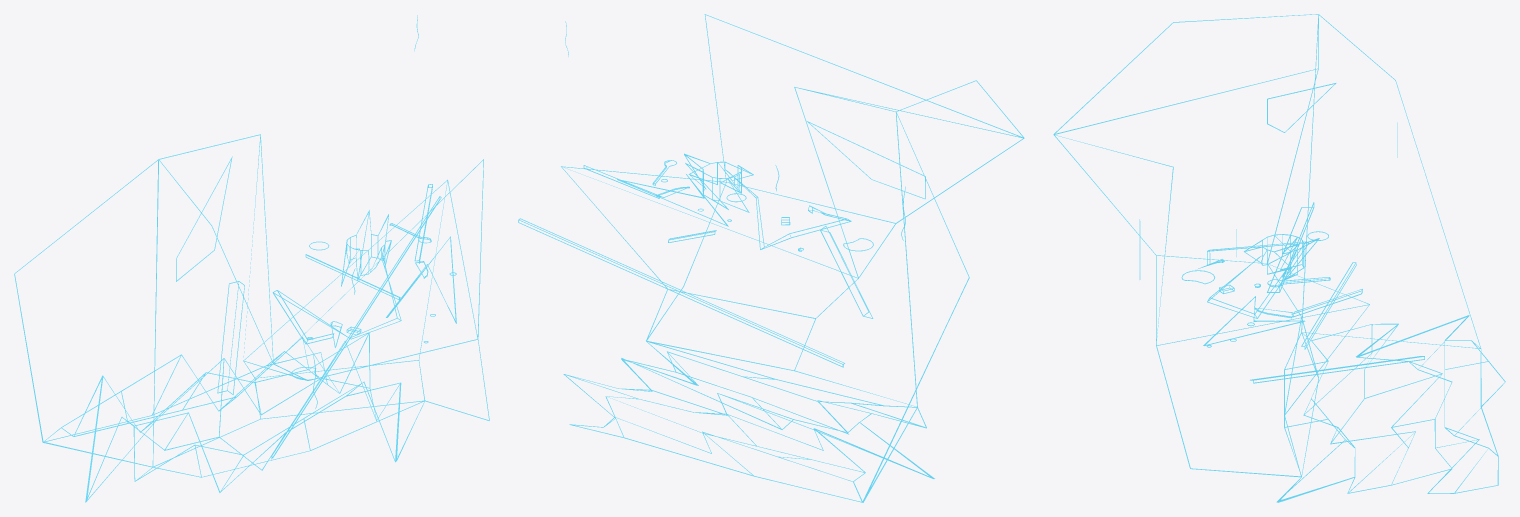
Rendered from perspective.glb.
3 views of the same model, side by side, from view 1: azimuth 30°, elevation 25°; view 2: azimuth 150°, elevation 25°; view 3: azimuth 270°, elevation 25° (orthographic). The views are drawn at different scales.
Parts seen in each view (by area): view 1: Cube.007, Cube.009; view 2: Cube.007, Cube.009; view 3: Cube.007, Cube.009.
Boxes of the visible parts, x1,y1,x2,y2 form: Cube.007: (14,134,489,502); Cube.009: (217,184,456,459); Cube.007: (561,14,1024,502); Cube.009: (518,153,873,367); Cube.007: (1053,14,1505,502); Cube.009: (1181,202,1424,383).
Size of the model in its own units: 323 by 274 by 265.
